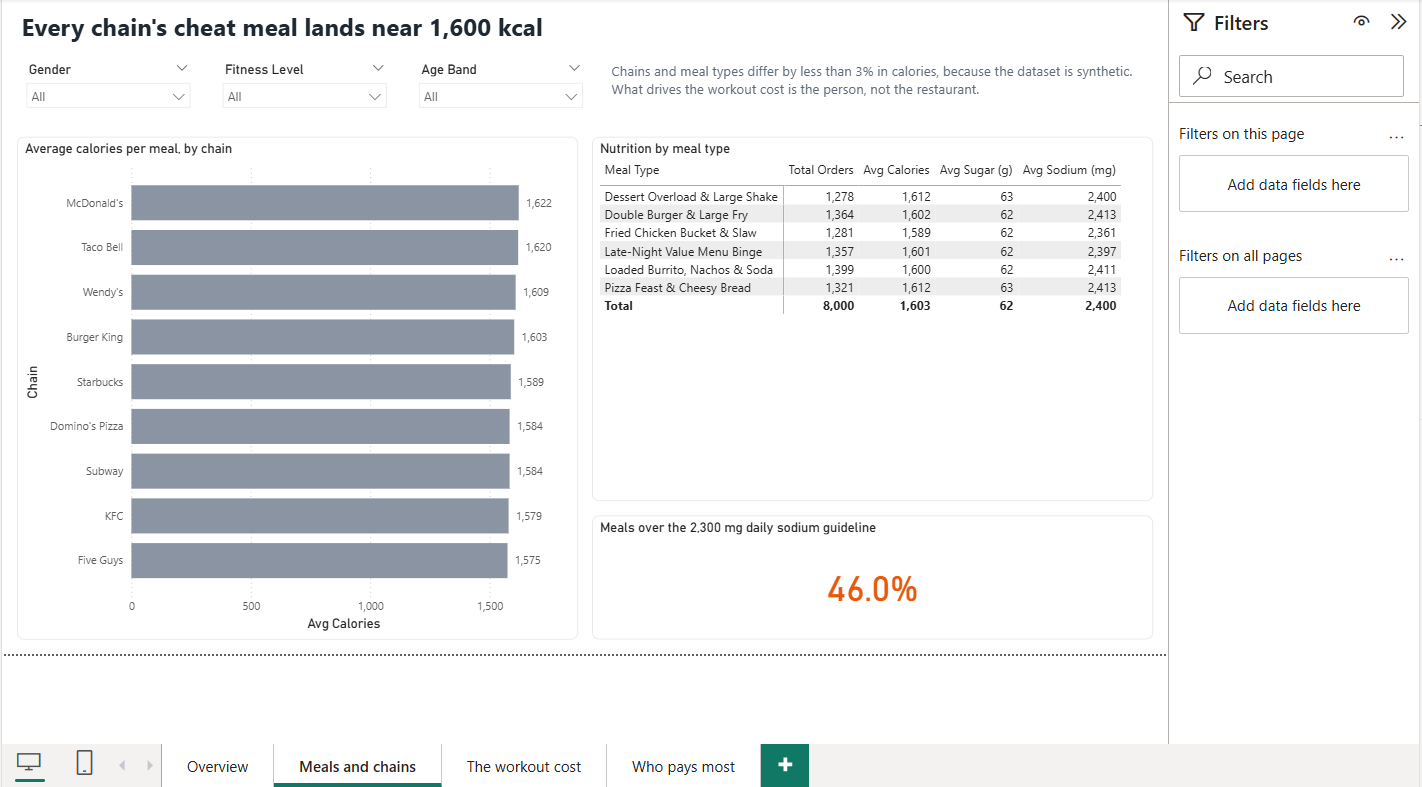

What the dashboard file says about the page in this screenshot:
{"tool":"powerbi","page":{"name":"Meals and chains","canvas":[1280,720],"ordinal":1},"visuals":[{"type":"textbox","box":[16,8,1248,48],"z":12000},{"type":"slicer","fields":{"Values":["DimGender.Gender"]},"box":[16,64,200,72],"z":13000},{"type":"slicer","fields":{"Values":["DimFitness.Fitness Level"]},"box":[232,64,200,72],"z":14000},{"type":"slicer","fields":{"Values":["DimAgeBand.Age Band"]},"box":[448,64,200,72],"z":15000},{"type":"textbox","box":[664,64,600,72],"z":16000},{"type":"clusteredBarChart","title":"Average calories per meal, by chain","fields":{"Category":["DimChain.Chain"],"Y":["FactOrders.Avg Calories"]},"box":[16,152,616,552],"z":17000},{"type":"pivotTable","title":"Nutrition by meal type","fields":{"Rows":["DimMealType.Meal Type"],"Values":["FactOrders.Total Orders","FactOrders.Avg Calories","FactOrders.Avg Sugar (g)","FactOrders.Avg Sodium (mg)"]},"box":[648,152,616,400],"z":18000},{"type":"card","title":"Meals over the 2,300 mg daily sodium guideline","fields":{"Values":["FactOrders.% Meals Over Sodium Limit"]},"box":[648,568,616,136],"z":19000}]}

Visuals, with their boxes on the page's 1280x720 design canvas (x1, y1, x2, y2). These are canvas units, not pixel positions in the 1422x787 screenshot, which may show the page scaled, cropped or inside an application window:
textbox: (16, 8, 1264, 56)
slicer - DimGender.Gender: (16, 64, 216, 136)
slicer - DimFitness.Fitness Level: (232, 64, 432, 136)
slicer - DimAgeBand.Age Band: (448, 64, 648, 136)
textbox: (664, 64, 1264, 136)
"Average calories per meal, by chain" clusteredBarChart: (16, 152, 632, 704)
"Nutrition by meal type" pivotTable: (648, 152, 1264, 552)
"Meals over the 2,300 mg daily sodium guideline" card: (648, 568, 1264, 704)
